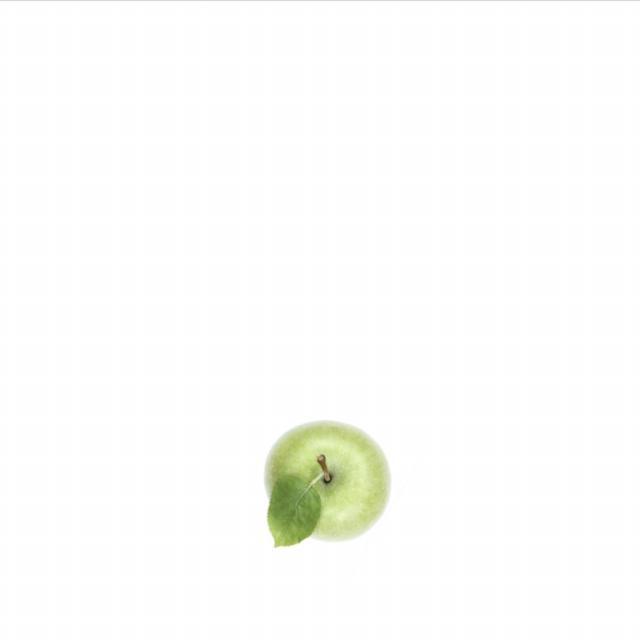Fresh Apple: (273, 425, 392, 542)
